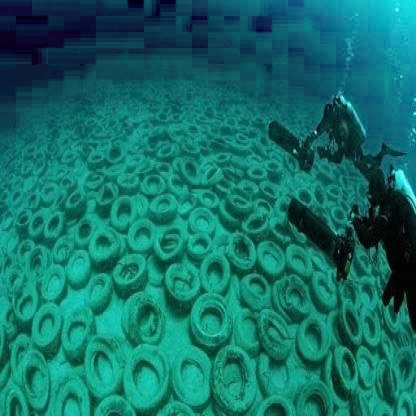tire: (279, 293, 341, 373), (194, 273, 242, 357), (14, 290, 74, 357), (70, 330, 129, 394), (81, 222, 139, 279), (124, 294, 164, 360), (184, 344, 226, 399), (240, 225, 281, 276), (38, 208, 76, 256), (158, 208, 192, 259), (59, 174, 90, 228), (40, 262, 70, 310), (187, 156, 219, 196), (149, 117, 180, 157), (102, 136, 132, 169)
